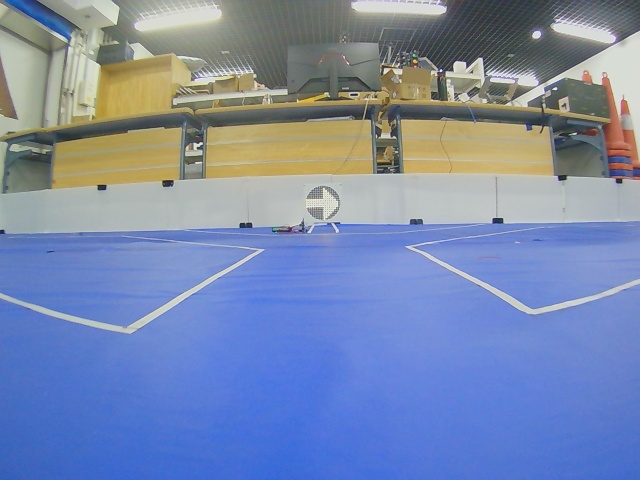right_yellow: (305, 186, 341, 221)
